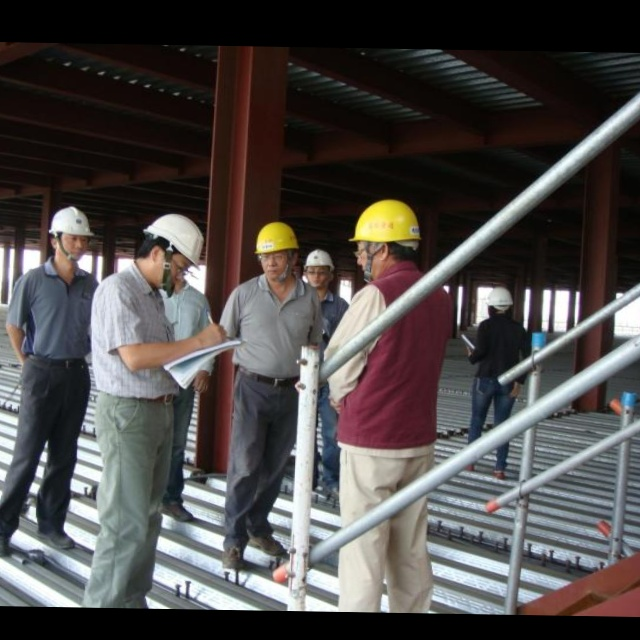Con_Casco: (254, 220, 300, 276), (51, 206, 92, 266)
